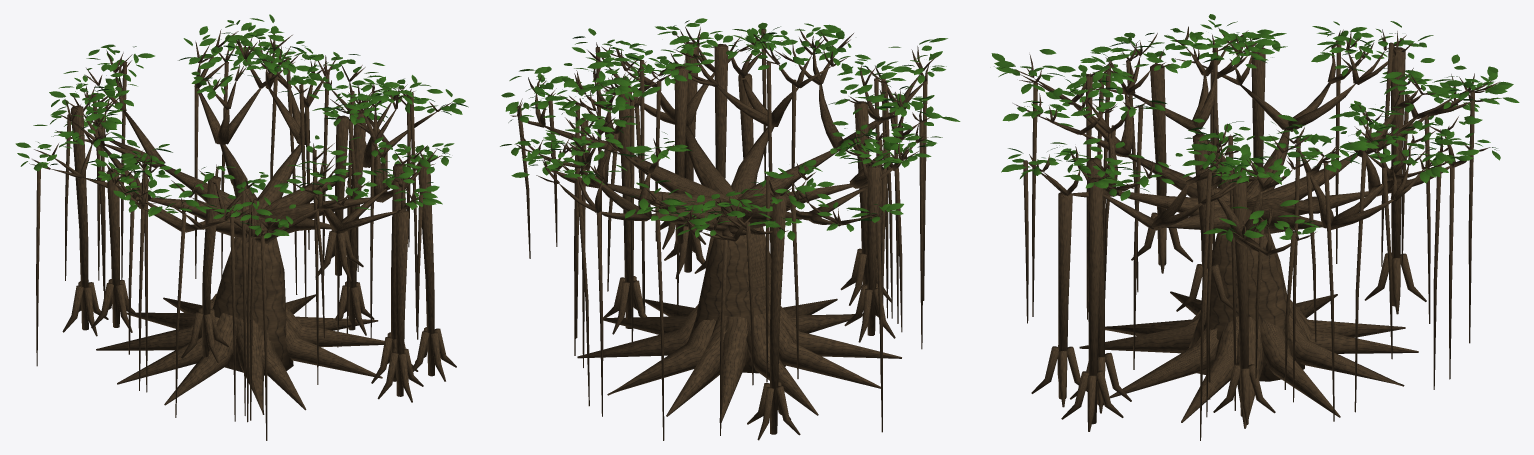
The model's file is 01_banyan_v2_elder.glb.
The picture shows the model from 3 angles, left to right: view 1: azimuth 30°, elevation 25°; view 2: azimuth 150°, elevation 25°; view 3: azimuth 270°, elevation 25°; orthographic projection. The views are drawn at different scales.
Visible parts, largest first — view 1: 01_banyan_v2_elder | Banyan | fissured warm bark, Banyan variant | leaf canopy; view 2: 01_banyan_v2_elder | Banyan | fissured warm bark, Banyan variant | leaf canopy; view 3: 01_banyan_v2_elder | Banyan | fissured warm bark, Banyan variant | leaf canopy.
Part boxes in pixels (box(x1,y1,x2,y2)): 01_banyan_v2_elder | Banyan | fissured warm bark: box(29, 29, 456, 440); Banyan variant | leaf canopy: box(15, 14, 468, 238); 01_banyan_v2_elder | Banyan | fissured warm bark: box(510, 27, 936, 440); Banyan variant | leaf canopy: box(500, 18, 960, 240); 01_banyan_v2_elder | Banyan | fissured warm bark: box(1012, 26, 1499, 440); Banyan variant | leaf canopy: box(991, 14, 1519, 241).
Size of the model in its own units: 7.71 by 4.64 by 7.8.
Materials: 3 (3 with a texture image).
